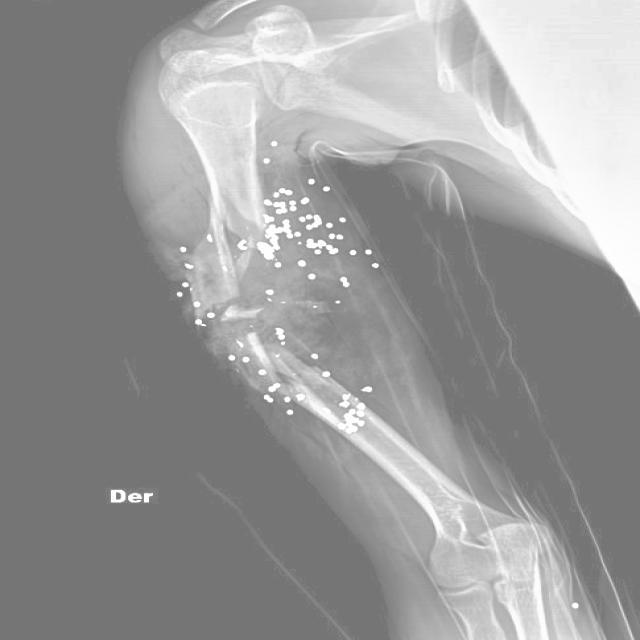Comminuted Fracture: (137, 224, 302, 384)
